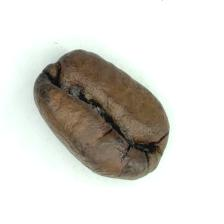NG: (68, 74, 134, 156)
